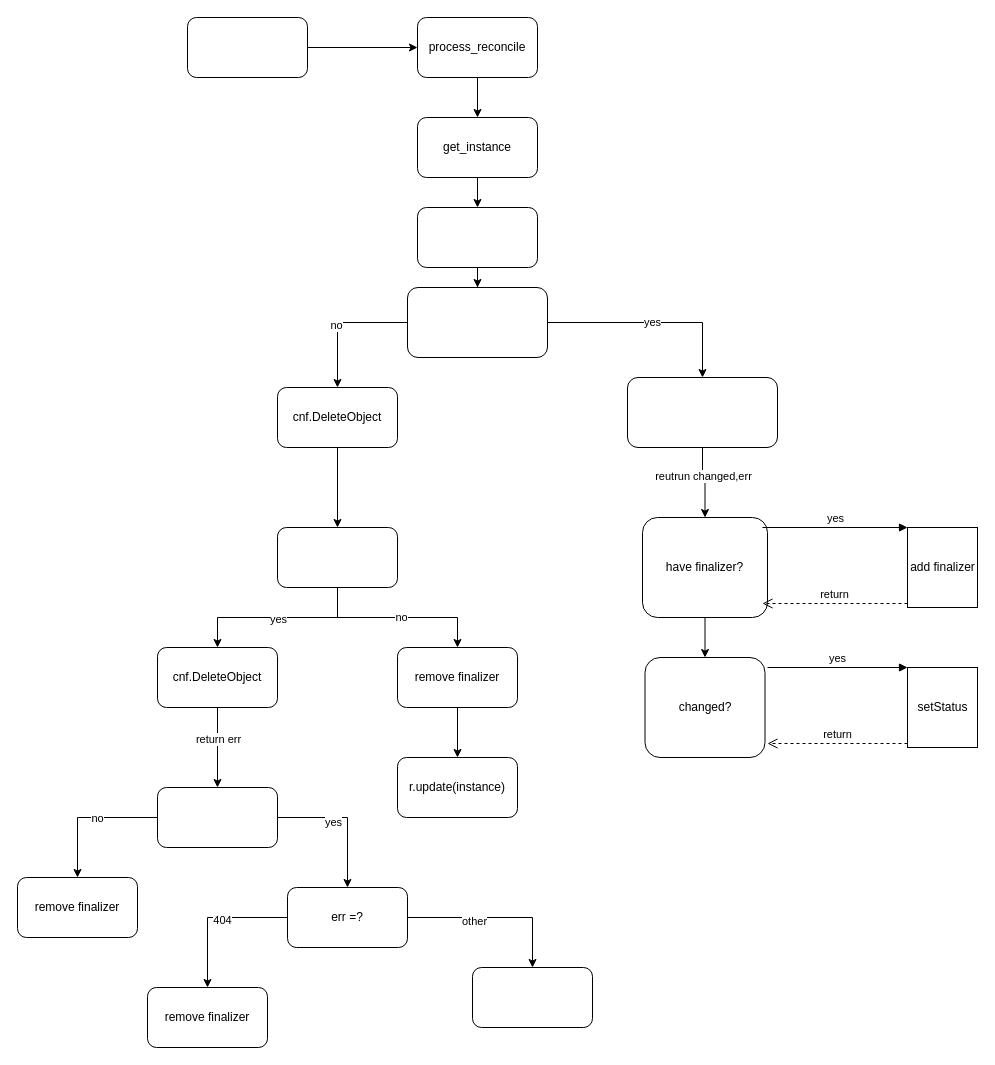
This 995x1065 diagram has some shape labels left out. The shapes that lost their labels are listed below. From the top down, each one's centre as x and y in pixels, then its label:
point (247, 47): reconcile
point (477, 237): get_cnf_client
point (477, 322): delete_timestamp.isZero
point (702, 412): cnf.CreateorUpdateObject
point (337, 557): cnf exist?
point (217, 817): err exist?
point (532, 997): return "Failed to delete CR"
